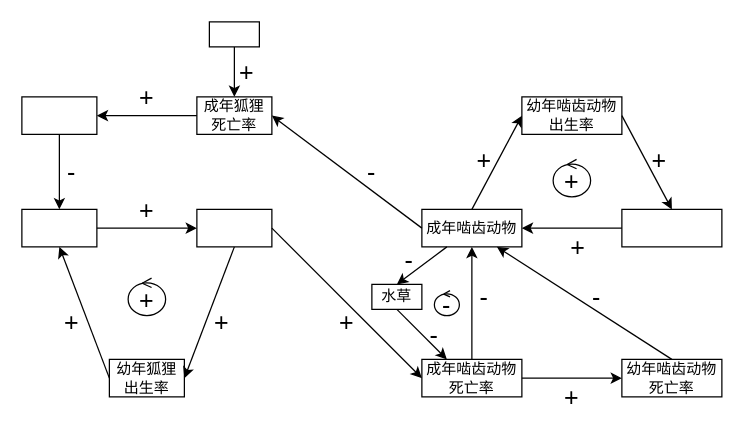
Some shapes in this 744 by 434 pixel diagram are drawn without their labels. The centre of each missing label's shape, as x and y in pixels:
"幼年啮齿动物" belongs at point 671,227.
"幼年狐狸" belongs at point 59,227.
"幼年狐狸死亡率" belongs at point 59,115.
"成年狐狸" belongs at point 234,227.
"猎人" belongs at point 233,34.
